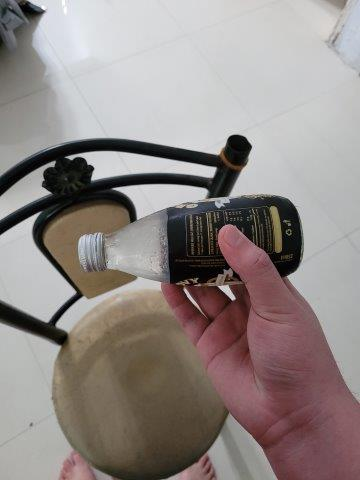botolkaca: (77, 193, 304, 283)
